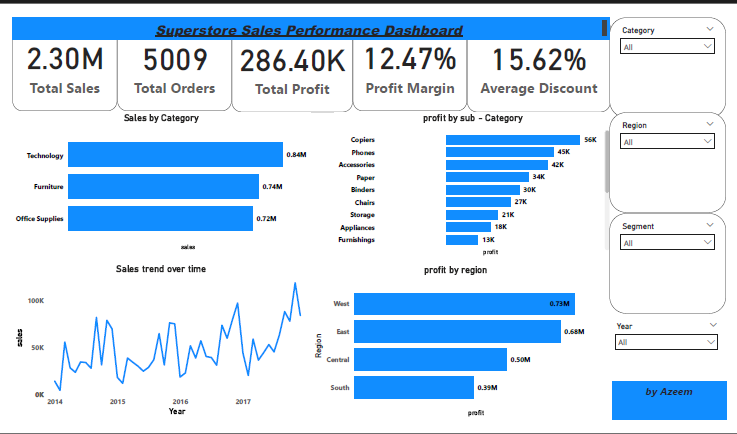

The dashboard page shown, as its layout file describes it:
{"tool":"powerbi","page":{"name":"dashboard","canvas":[1280,720],"ordinal":0},"visuals":[{"type":"card","fields":{"Values":["Sum(Sample - Superstore.Sales)"]},"box":[0,0,188.3,168.3],"z":0},{"type":"card","fields":{"Values":["Sum(Sample - Superstore.Profit)"]},"box":[393.3,1.7,216.7,168.3],"z":1000},{"type":"card","fields":{"Values":["Count(Sample - Superstore.Order ID)"]},"box":[188.3,1.7,205,166.7],"z":2000},{"type":"card","fields":{"Values":["Avg(Sample - Superstore.Discount)"]},"box":[815,0,256.7,170],"z":3000},{"type":"card","fields":{"Values":["Sample - Superstore.Profit Margin"]},"box":[610,0,205,168.3],"z":4000},{"type":"clusteredBarChart","title":"Sales by Category","fields":{"Y":["Sum(Sample - Superstore.Sales)"],"Category":["Sample - Superstore.Category"]},"box":[0,170.4,534.9,251.3],"z":5000},{"type":"clusteredBarChart","title":"profit by sub - Category","fields":{"Y":["Sum(Sample - Superstore.Profit)"],"Category":["Sample - Superstore.Sub-Category"]},"box":[578.4,170.4,496.3,261.2],"z":6000},{"type":"lineChart","title":"Sales trend over time","fields":{"Y":["Sum(Sample - Superstore.Sales)"],"Category":["Sample - Superstore.Order Date.Variation.Date Hierarchy.Year","Sample - Superstore.Order Date.Variation.Date Hierarchy.Month"]},"box":[0,440.4,534.9,279.9],"z":7000},{"type":"clusteredBarChart","title":"profit by region","fields":{"Y":["Sum(Sample - Superstore.Sales)"],"Category":["Sample - Superstore.Region"]},"box":[535,441.7,520,278.3],"z":8000},{"type":"slicer","fields":{"Values":["Sample - Superstore.Category"]},"box":[1069.8,0,209,180],"z":9000},{"type":"slicer","fields":{"Values":["Sample - Superstore.Region"]},"box":[1069.8,170.4,209,179.1],"z":10000},{"type":"slicer","fields":{"Values":["Sample - Superstore.Segment"]},"box":[1069.8,350.8,209,180.4],"z":11000},{"type":"slicer","fields":{"Values":["Sample - Superstore.Order Date.Variation.Date Hierarchy.Year"]},"box":[1069.8,539.9,205.3,180.4],"z":12000},{"type":"textbox","box":[0,0,1069.8,39.8],"z":13000},{"type":"textbox","box":[1074.8,651.8,205.3,68.4],"z":14000}]}

Visuals, with their boxes on the page's 1280x720 design canvas (x1, y1, x2, y2). These are canvas units, not pixel positions in the 737x434 screenshot, which may show the page scaled, cropped or inside an application window:
card - Sum(Sample - Superstore.Sales): <box>0,0,188,168</box>
card - Sum(Sample - Superstore.Profit): <box>393,2,610,170</box>
card - Count(Sample - Superstore.Order ID): <box>188,2,393,168</box>
card - Avg(Sample - Superstore.Discount): <box>815,0,1072,170</box>
card - Sample - Superstore.Profit Margin: <box>610,0,815,168</box>
"Sales by Category" clusteredBarChart: <box>0,170,535,422</box>
"profit by sub - Category" clusteredBarChart: <box>578,170,1075,432</box>
"Sales trend over time" lineChart: <box>0,440,535,720</box>
"profit by region" clusteredBarChart: <box>535,442,1055,720</box>
slicer - Sample - Superstore.Category: <box>1070,0,1279,180</box>
slicer - Sample - Superstore.Region: <box>1070,170,1279,350</box>
slicer - Sample - Superstore.Segment: <box>1070,351,1279,531</box>
slicer - Sample - Superstore.Order Date.Variation.Date Hierarchy.Year: <box>1070,540,1275,720</box>
textbox: <box>0,0,1070,40</box>
textbox: <box>1075,652,1280,720</box>
